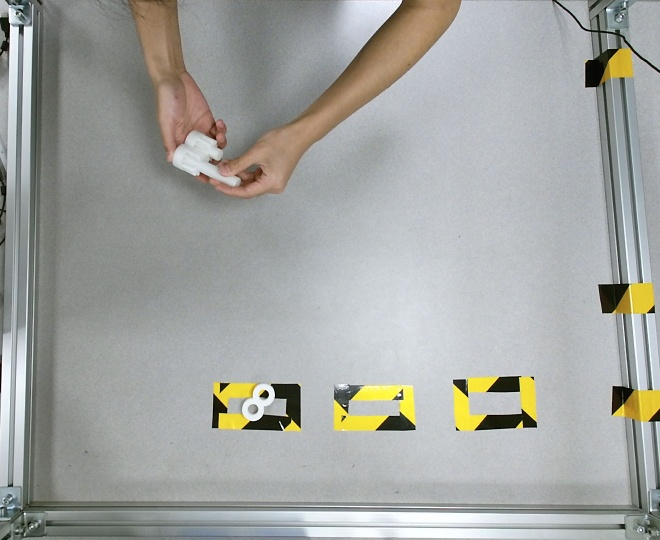stage_3: (173, 129, 240, 187)
